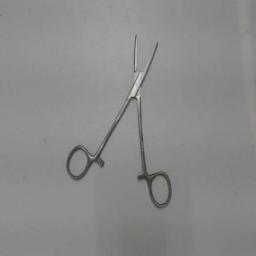Mayo Needle Holder: (62, 24, 176, 212)
